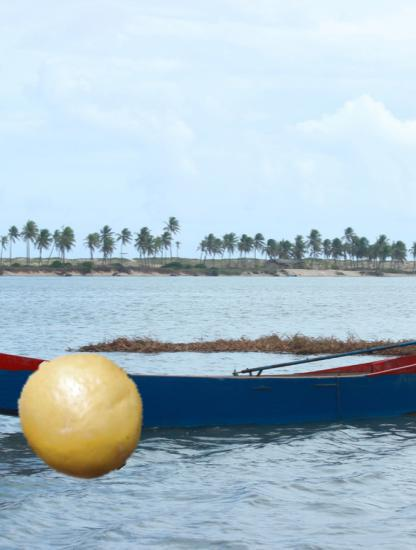Grapefruit: (16, 349, 148, 481)
